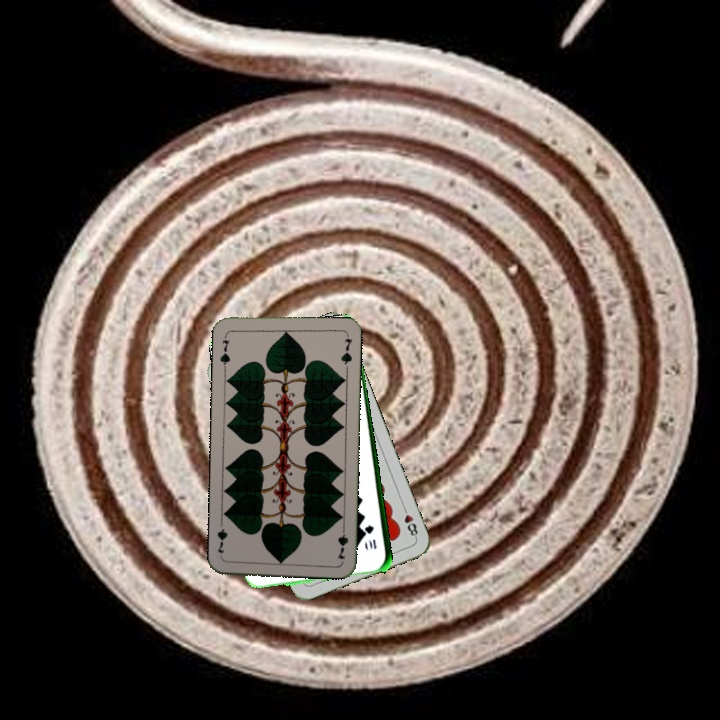G10: (362, 521, 379, 551)
G7: (333, 521, 351, 562), (216, 330, 232, 371)
H8: (399, 502, 421, 541)
